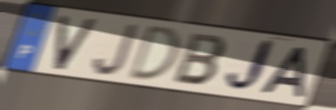A: (257, 45, 309, 100)
B: (171, 31, 229, 88)
D: (125, 23, 181, 82)
J: (223, 37, 278, 96), (91, 22, 140, 78)
V: (52, 14, 100, 73)
